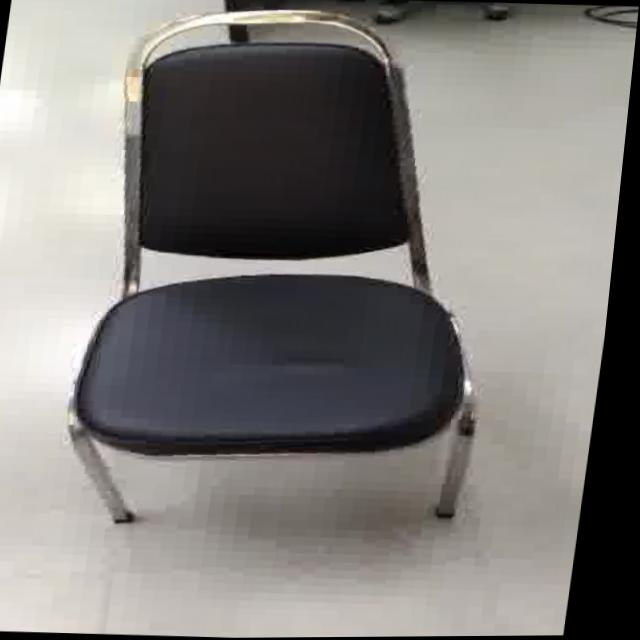chair: (15, 0, 586, 569)
